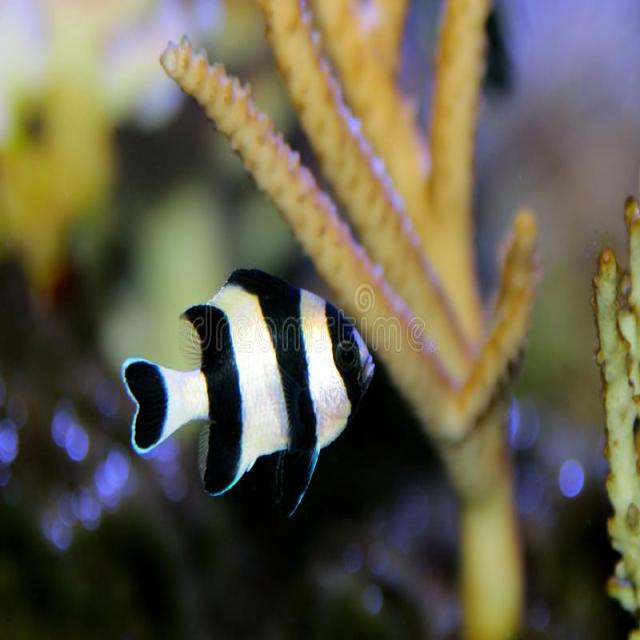ThreeStripedDamselfish: (117, 261, 377, 519)
